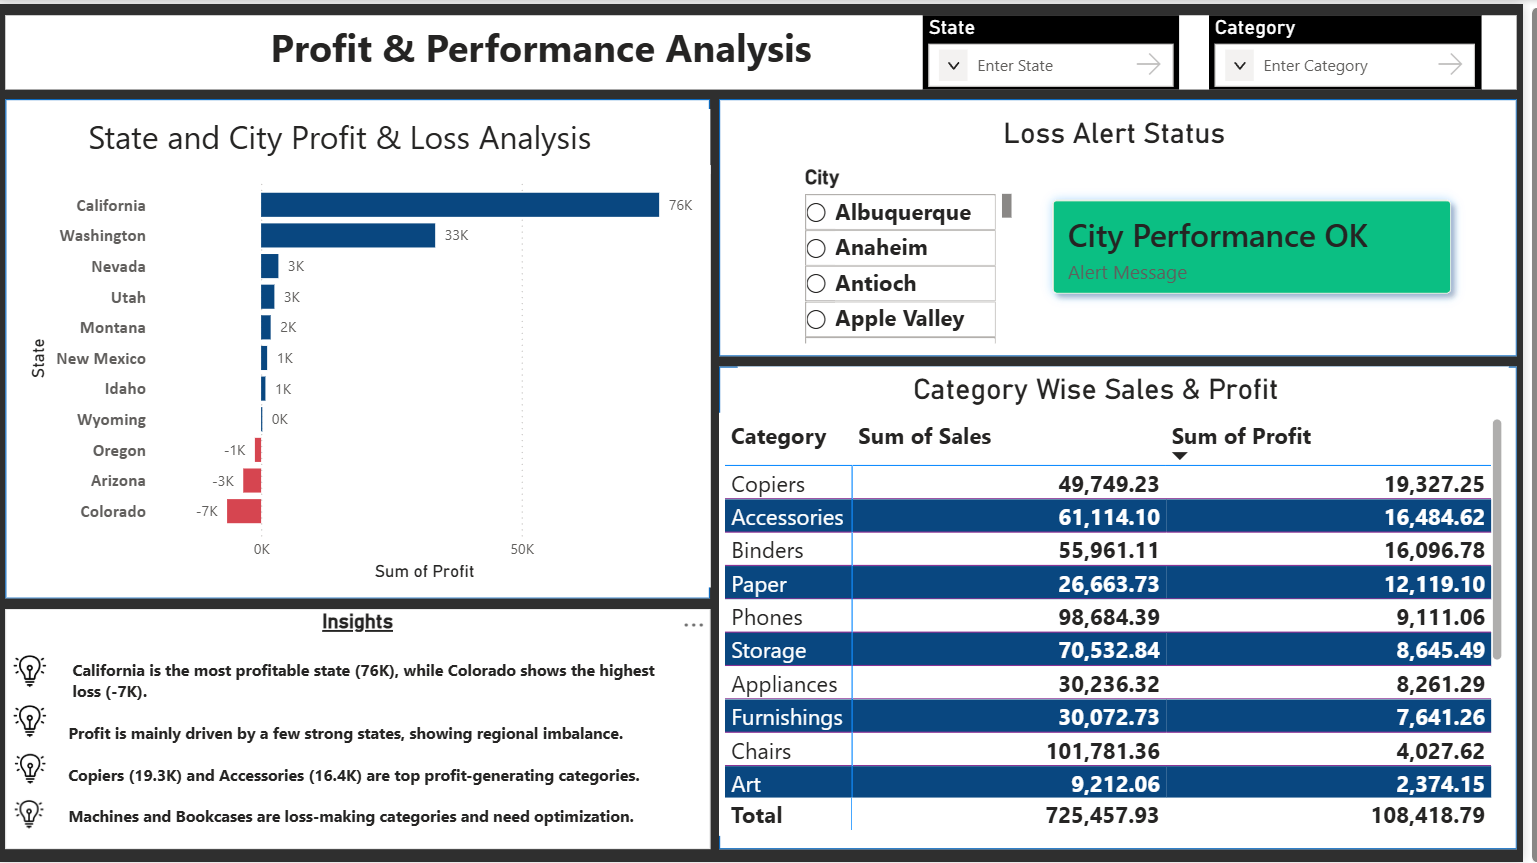

The dashboard page shown, as its layout file describes it:
{"tool":"powerbi","page":{"name":"Page 2","canvas":[1280,720],"ordinal":1},"visuals":[{"type":"textbox","box":[5.7,10,1268.6,62.6],"z":0},{"type":"shape","box":[5.7,79.6,591.6,419.6],"z":1000},{"type":"clusteredBarChart","fields":{"Y":["Sum(walmart.Profit)"],"Category":["walmart.City","walmart.State"]},"box":[19.9,135.1,577.4,354.1],"z":2000},{"type":"shape","box":[604.4,304.4,669.9,405.3],"z":3000},{"type":"pivotTable","fields":{"Rows":["walmart.Category"],"Values":["Sum(walmart.Sales)","Sum(walmart.Profit)"]},"box":[604.4,342.8,662.8,355.6],"z":4000},{"type":"shape","box":[604.4,79.6,669.9,216.2],"z":5000},{"type":"listSlicer","fields":{"Values":["walmart.City"]},"box":[671.3,135.1,183.5,155],"z":6000},{"type":"cardVisual","fields":{"Data":["walmart.Alert Message"]},"box":[854.8,135.1,394,138],"z":7000},{"type":"textbox","box":[11.4,88.2,586,54],"z":9000},{"type":"textbox","box":[620.1,304.4,647.1,38.4],"z":10000},{"type":"textbox","box":[640,89.6,620.1,45.5],"z":11000},{"type":"textbox","title":"Insights","box":[5.7,507.7,591.6,202],"z":11500},{"type":"image","box":[5.7,667,39.8,25.6],"z":12000},{"type":"image","box":[12.8,621.5,27,41.2],"z":13000},{"type":"image","box":[1.4,587.4,49.8,28.4],"z":14000},{"type":"image","box":[1.4,546.1,49.8,28.4],"z":15000}]}

Visuals, with their boxes in screenshot pixels (x1, y1, x2, y2), scaled from the page's 1280x720 canvas onto the 1537x863 screenshot:
textbox: <bbox>7, 12, 1530, 87</bbox>
shape: <bbox>7, 95, 717, 598</bbox>
clusteredBarChart - Sum(walmart.Profit) x walmart.City: <bbox>24, 162, 717, 586</bbox>
shape: <bbox>726, 365, 1530, 851</bbox>
pivotTable - walmart.Category x Sum(walmart.Sales): <bbox>726, 411, 1522, 837</bbox>
shape: <bbox>726, 95, 1530, 355</bbox>
listSlicer - walmart.City: <bbox>806, 162, 1026, 348</bbox>
cardVisual - walmart.Alert Message: <bbox>1026, 162, 1500, 327</bbox>
textbox: <bbox>14, 106, 717, 170</bbox>
textbox: <bbox>745, 365, 1522, 411</bbox>
textbox: <bbox>768, 107, 1513, 162</bbox>
"Insights" textbox: <bbox>7, 609, 717, 851</bbox>
image: <bbox>7, 799, 55, 830</bbox>
image: <bbox>15, 745, 48, 794</bbox>
image: <bbox>2, 704, 61, 738</bbox>
image: <bbox>2, 655, 61, 689</bbox>
